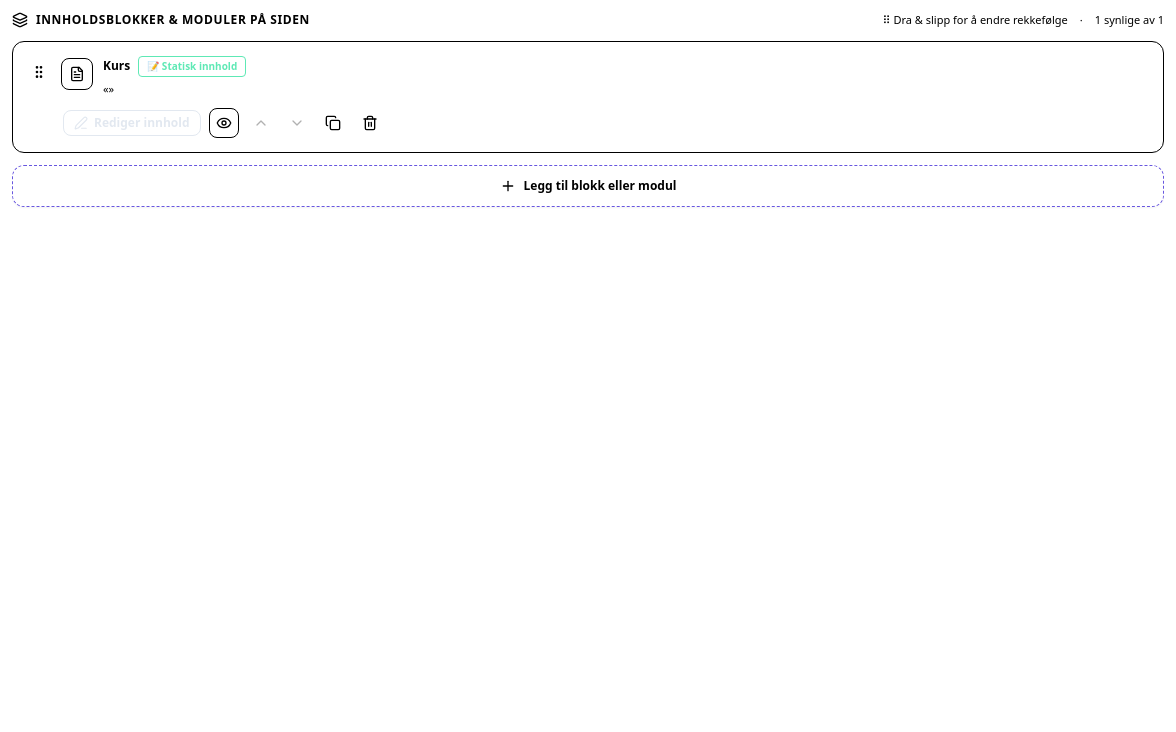
Scenario: Tekstblokken direkte › et trykk på tittelen eller teksten åpner feltene
Step 1. Click the button titled "Trykk for å redigere" → (175,76), box [103,56,246,96]
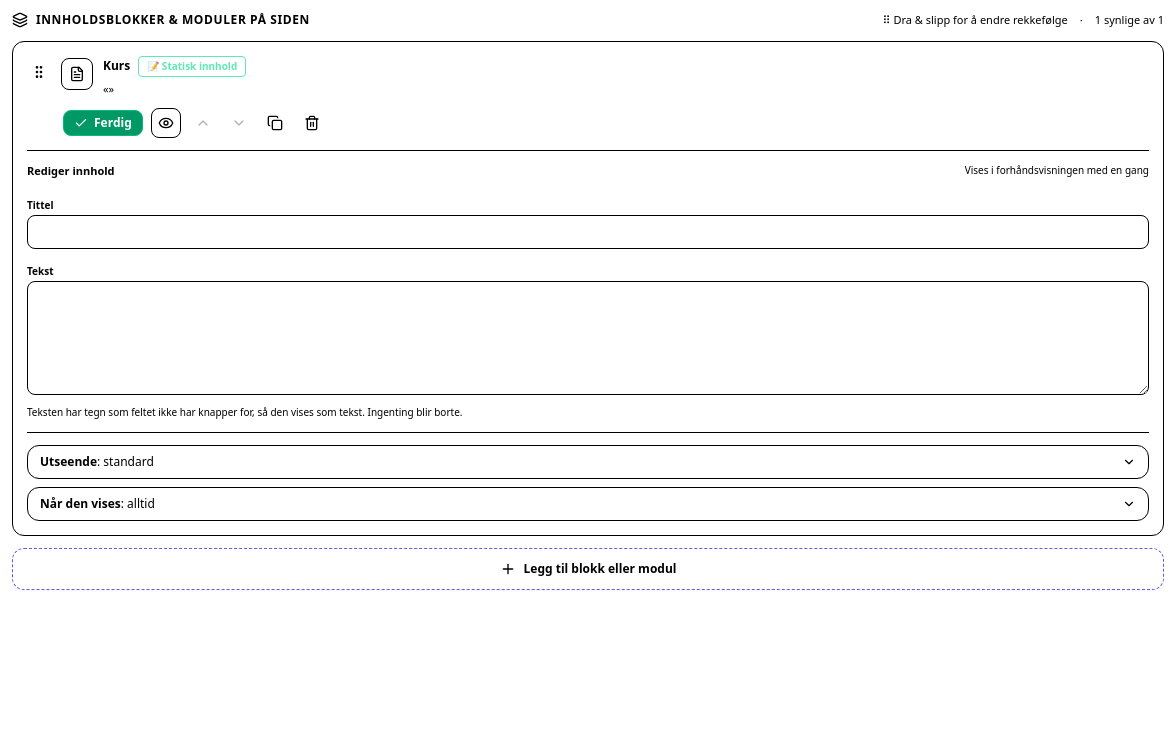
Expected: the text "Vises i forhåndsvisningen med en gang" is shown, [965,163,1149,178]
